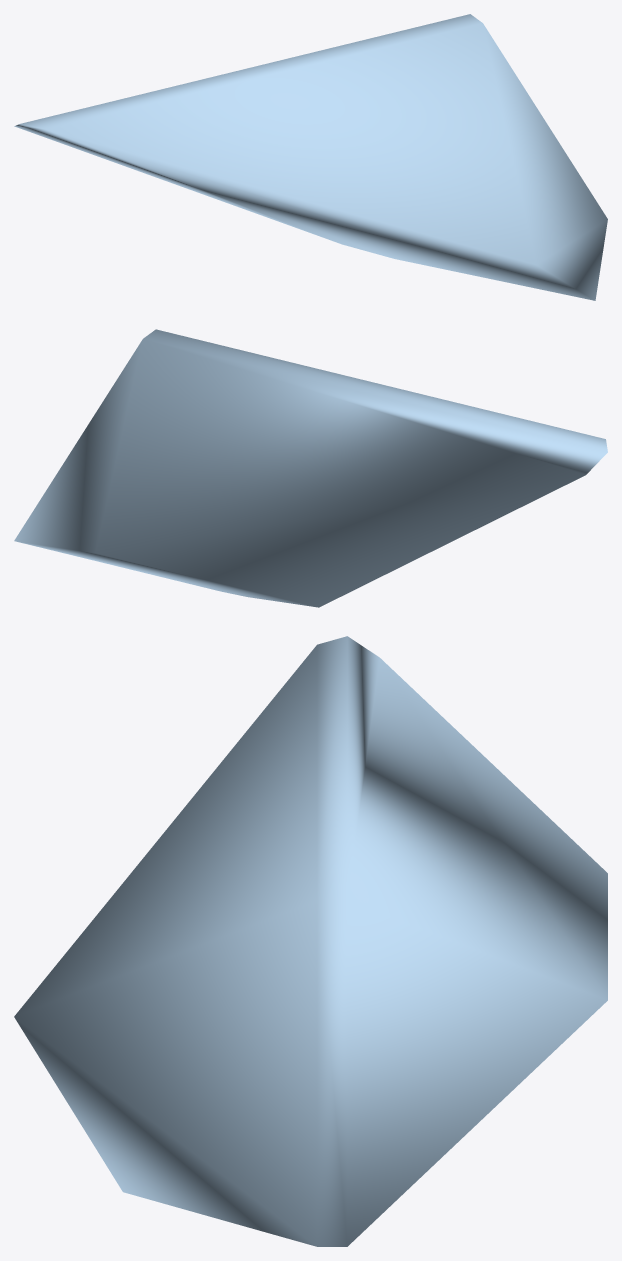
The model's file is tourmaline-watermelon.glb.
3 renders of one model, top to bottom at view 1: azimuth 30°, elevation 25°; view 2: azimuth 150°, elevation 25°; view 3: azimuth 270°, elevation 25°, orthographic. The views are drawn at different scales.
Visible parts, largest first — view 1: tourmaline-watermelon; view 2: tourmaline-watermelon; view 3: tourmaline-watermelon.
Part boxes in pixels (x1,y1,x2,y2): tourmaline-watermelon: (14,14,607,300); tourmaline-watermelon: (14,329,607,607); tourmaline-watermelon: (14,636,607,1246).
Bounding box in the file's own units: 5.32 × 2 × 3.95.
